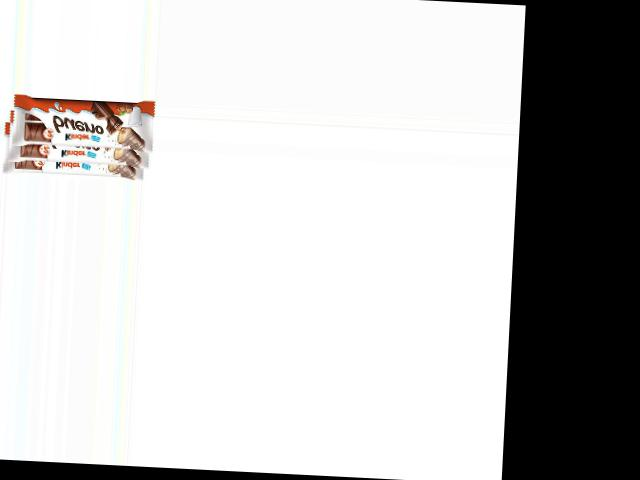chocolate: (3, 92, 152, 180)
